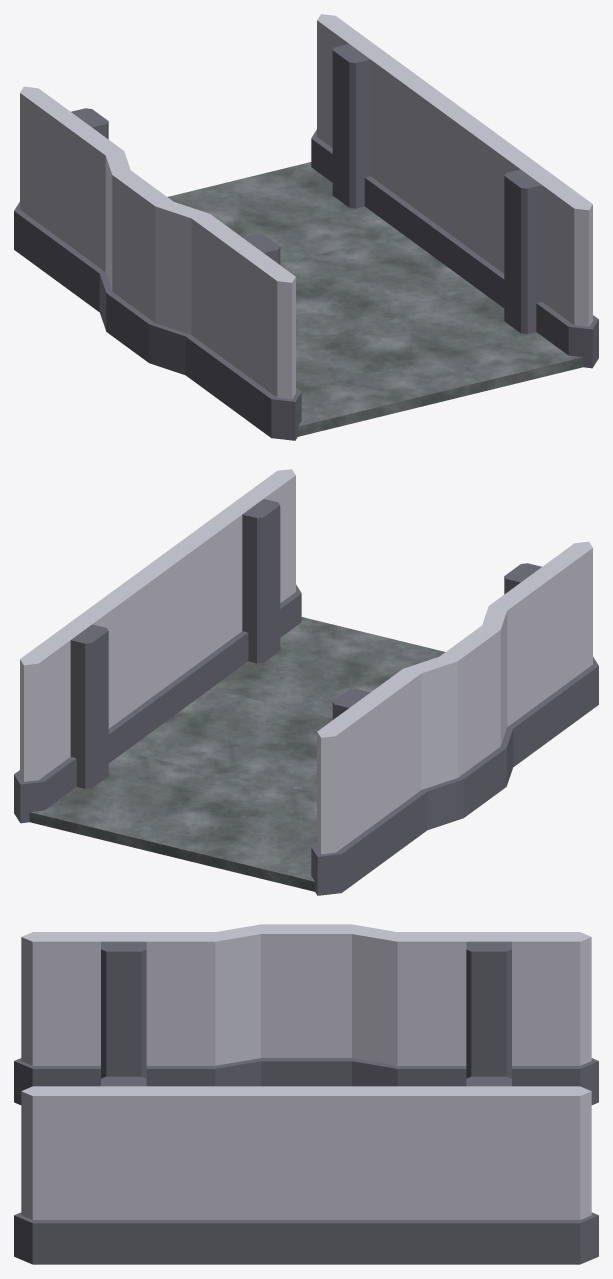
The model's file is hallway_09.fbx.
The picture shows the model from 3 angles, top to bottom: view 1: azimuth 30°, elevation 25°; view 2: azimuth 150°, elevation 25°; view 3: azimuth 270°, elevation 25°; orthographic projection. The views are drawn at different scales.
Parts seen in each view (by area): view 1: floor_04_56, wall_02_63, wall_02_61, wall_02_64, wall_03_65, wall_02_62, wall_01_68, floor_05_67, floor_04_59; view 2: floor_04_59, wall_02_64, wall_02_62, wall_02_63, wall_03_65, wall_02_61, wall_01_68, floor_05_67, floor_04_56; view 3: wall_02_61, wall_02_62, wall_01_68, wall_02_64, wall_02_63, wall_03_65.
Boxes of the visible parts, bbox=[...] form: floor_04_56: bbox=[296, 289, 583, 436]; wall_02_63: bbox=[185, 212, 301, 440]; wall_02_61: bbox=[482, 139, 598, 368]; wall_02_64: bbox=[14, 86, 123, 311]; wall_03_65: bbox=[99, 151, 209, 375]; wall_02_62: bbox=[311, 14, 420, 229]; wall_01_68: bbox=[397, 77, 506, 292]; floor_05_67: bbox=[280, 234, 486, 343]; floor_04_59: bbox=[167, 162, 401, 263]; floor_04_59: bbox=[29, 751, 316, 891]; wall_02_64: bbox=[311, 667, 427, 895]; wall_02_62: bbox=[14, 594, 130, 823]; wall_02_63: bbox=[489, 541, 598, 766]; wall_03_65: bbox=[403, 604, 513, 830]; wall_02_61: bbox=[191, 469, 301, 684]; wall_01_68: bbox=[106, 532, 215, 747]; floor_05_67: bbox=[125, 682, 332, 796]; floor_04_56: bbox=[211, 617, 445, 718]; wall_02_61: bbox=[14, 1076, 224, 1264]; wall_02_62: bbox=[388, 1076, 598, 1264]; wall_01_68: bbox=[204, 1086, 408, 1264]; wall_02_64: bbox=[387, 932, 598, 1104]; wall_02_63: bbox=[14, 932, 226, 1104]; wall_03_65: bbox=[207, 924, 407, 1086].
Size of the model in its own units: 23.05 by 10 by 32.05.
